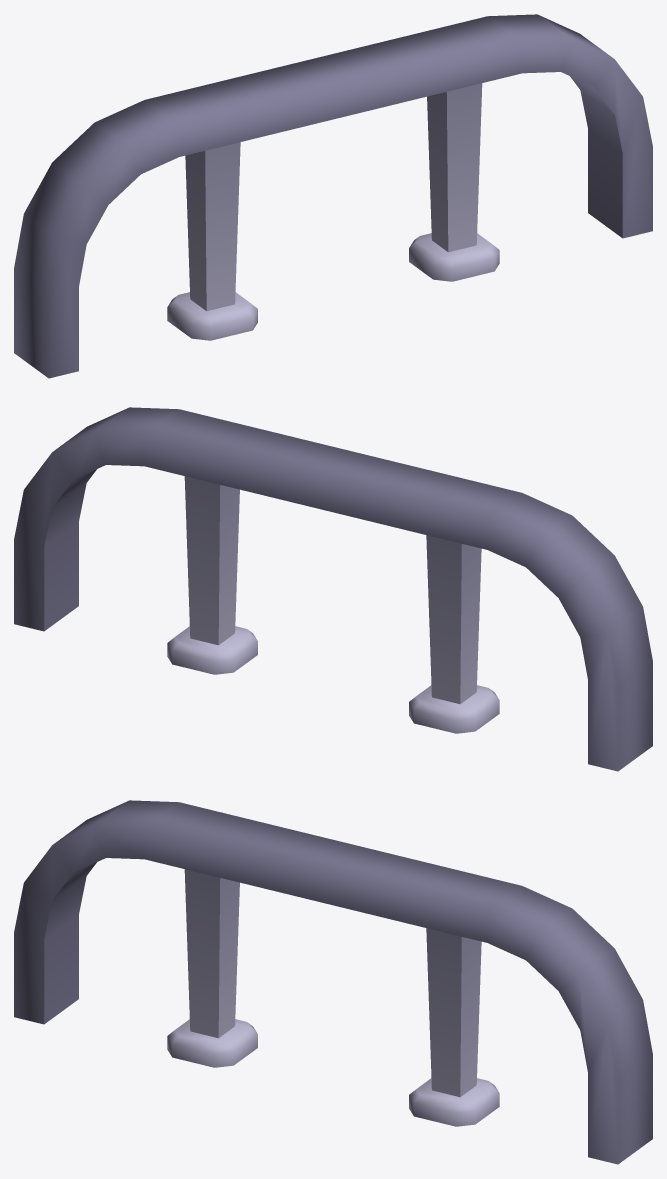
File: fence.glb
3 renders of one model, top to bottom at view 1: azimuth 30°, elevation 25°; view 2: azimuth 150°, elevation 25°; view 3: azimuth 330°, elevation 25°, orthographic.
Parts seen in each view (by area): view 1: fence; view 2: fence; view 3: fence.
Boxes of the visible parts, left/top/right/bottom form: fence: left=14, top=14, right=652, bottom=378; fence: left=14, top=407, right=652, bottom=771; fence: left=14, top=800, right=652, bottom=1164.
Size of the model in its own units: 1 by 0.35 by 0.11.
Materials: 1 (1 with a texture image).
